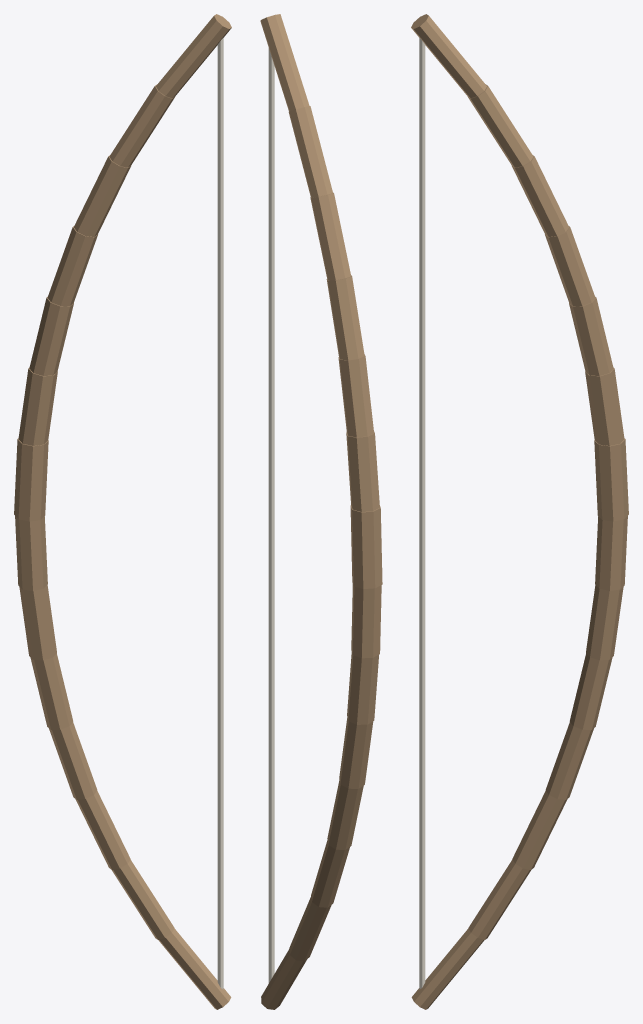
Rendered from WPN_CompositeBow.glb.
3 views of the same model, side by side, from view 1: azimuth 90°, elevation 25°; view 2: azimuth 210°, elevation 25°; view 3: azimuth 270°, elevation 25° (orthographic).
Parts seen in each view (by area): view 1: Bow_14, Bow_7, Bow_8, Bow_13, Bow_6, Bow_9, Bow_10, Bow_5, Bow_11, Bow_12, Bow_4, Bow_3 (+3 smaller); view 2: Bow_14, Bow_7, Bow_8, Bow_9, Bow_10, Bow_13, Bow_11, Bow_12, Bow_6, Bow_5, Bow_4, Bow_3 (+3 smaller); view 3: Bow_14, Bow_7, Bow_8, Bow_13, Bow_6, Bow_9, Bow_10, Bow_5, Bow_11, Bow_12, Bow_4, Bow_3 (+3 smaller).
Part boxes in pixels (left/top/right/bottom): Bow_14: left=217, top=38, right=223, bottom=989; Bow_7: left=14, top=438, right=48, bottom=521; Bow_8: left=18, top=367, right=57, bottom=445; Bow_13: left=156, top=14, right=231, bottom=98; Bow_6: left=15, top=516, right=47, bottom=590; Bow_9: left=29, top=297, right=73, bottom=375; Bow_10: left=47, top=226, right=97, bottom=306; Bow_5: left=19, top=585, right=56, bottom=660; Bow_11: left=74, top=155, right=130, bottom=236; Bow_12: left=109, top=84, right=174, bottom=167; Bow_4: left=30, top=653, right=73, bottom=729; Bow_3: left=49, top=722, right=97, bottom=799; Bow_14: left=268, top=48, right=274, bottom=983; Bow_7: left=350, top=505, right=382, bottom=588; Bow_8: left=346, top=431, right=379, bottom=511; Bow_9: left=338, top=354, right=373, bottom=437; Bow_10: left=326, top=275, right=364, bottom=360; Bow_13: left=260, top=14, right=309, bottom=111; Bow_11: left=310, top=192, right=350, bottom=280; Bow_12: left=288, top=106, right=332, bottom=197; Bow_6: left=351, top=584, right=381, bottom=658; Bow_5: left=347, top=652, right=379, bottom=724; Bow_4: left=339, top=717, right=373, bottom=788; Bow_3: left=327, top=780, right=363, bottom=849; Bow_14: left=419, top=38, right=425, bottom=989; Bow_7: left=594, top=438, right=628, bottom=521; Bow_8: left=585, top=367, right=624, bottom=445; Bow_13: left=411, top=14, right=486, bottom=98; Bow_6: left=595, top=516, right=627, bottom=590; Bow_9: left=569, top=297, right=613, bottom=375; Bow_10: left=545, top=226, right=595, bottom=306; Bow_5: left=586, top=585, right=623, bottom=660; Bow_11: left=512, top=155, right=568, bottom=236; Bow_12: left=468, top=84, right=533, bottom=167; Bow_4: left=569, top=653, right=612, bottom=729; Bow_3: left=545, top=722, right=593, bottom=799.
Bounding box in the file's own units: 0.036 × 1.26 × 0.2511.
